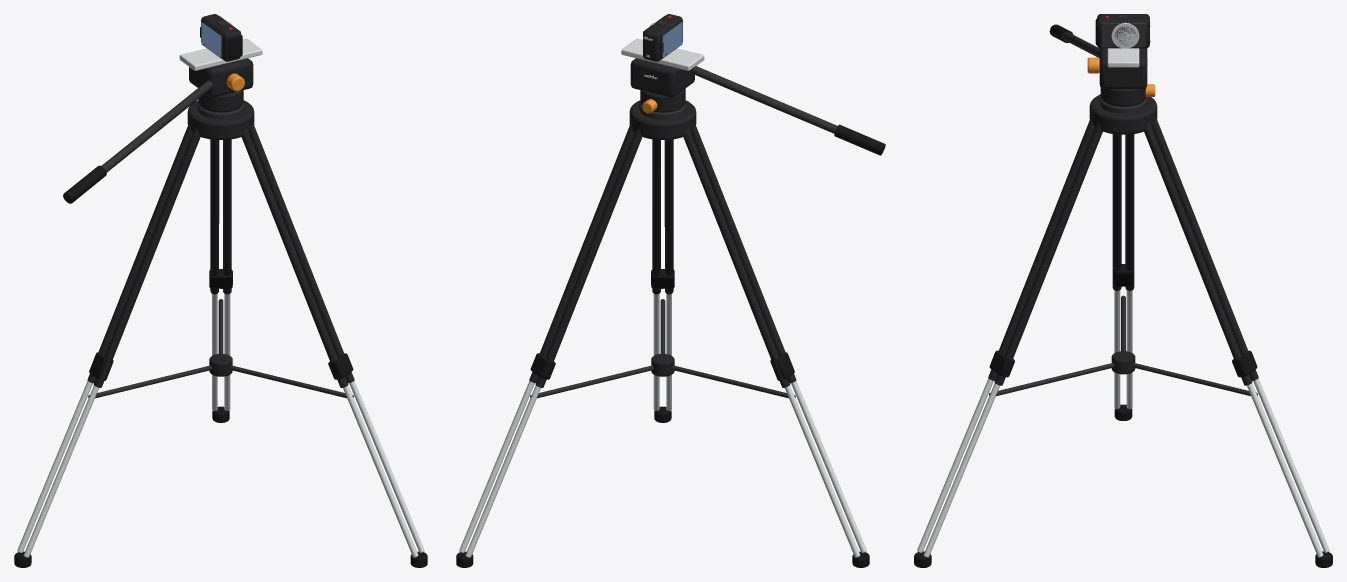
File: nikon_zr_tripie_video.glb
The picture shows the model from 3 angles, left to right: view 1: azimuth 30°, elevation 25°; view 2: azimuth 150°, elevation 25°; view 3: azimuth 270°, elevation 25°; orthographic projection.
Visible parts, largest first — view 1: Nikon ZR en tripié de video; view 2: Nikon ZR en tripié de video; view 3: Nikon ZR en tripié de video.
Part boxes in pixels (<box>): Nikon ZR en tripié de video: <box>14,14,427,567</box>; Nikon ZR en tripié de video: <box>456,14,885,567</box>; Nikon ZR en tripié de video: <box>914,14,1332,567</box>.
Bounding box in the file's own units: 0.9175 × 1.39 × 1.05.
